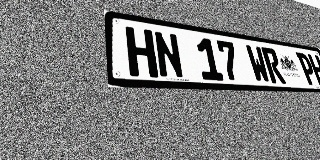1: (194, 37, 224, 81)
7: (215, 40, 243, 82)
H: (125, 26, 158, 78), (307, 54, 320, 86)
N: (153, 30, 185, 79)
P: (295, 52, 319, 85)
R: (261, 47, 286, 84)
W: (245, 44, 271, 83)
